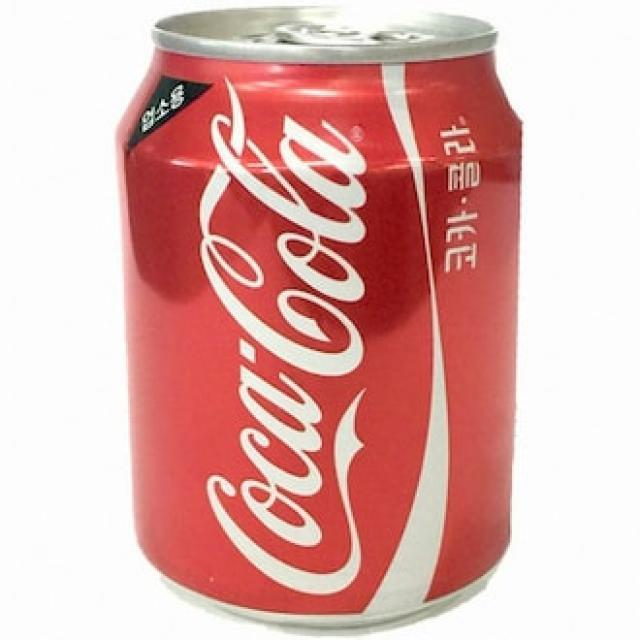coca-cola: (113, 7, 532, 635)
